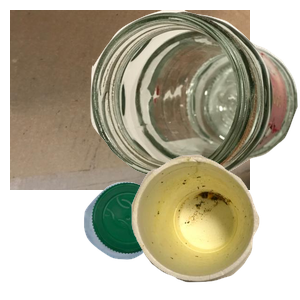cardboard: (10, 10, 250, 190)
glass: (90, 10, 300, 184)
plastic: (81, 179, 239, 300)
trash: (129, 152, 300, 300)
